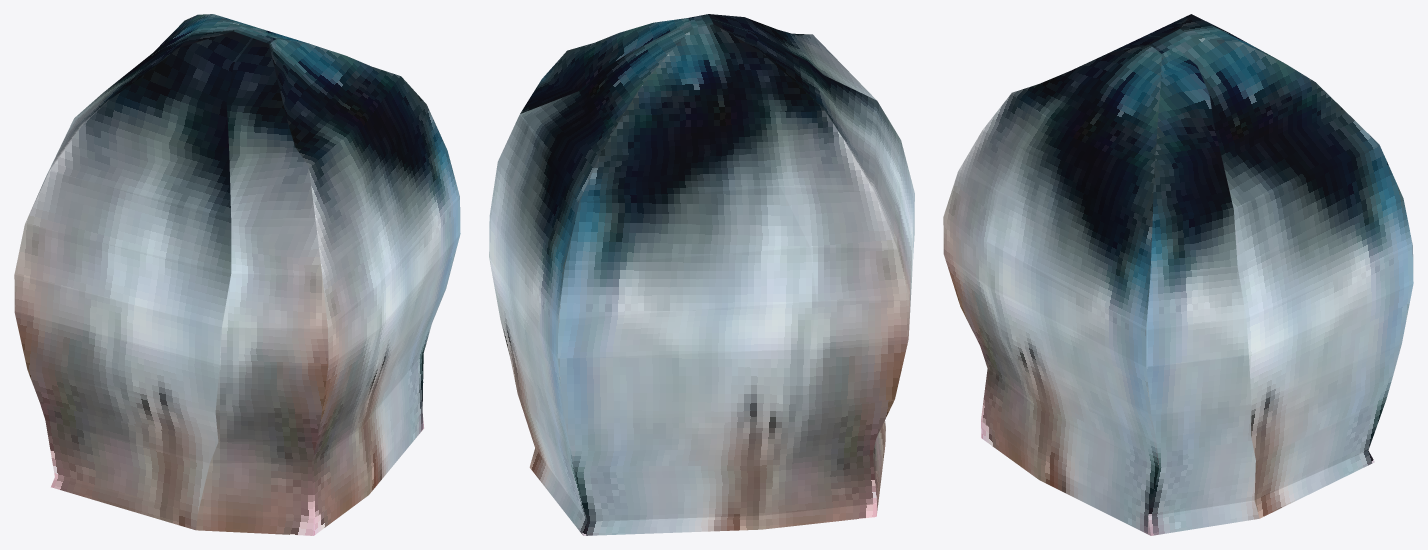
3 views of the same model, side by side, from view 1: azimuth 30°, elevation 25°; view 2: azimuth 150°, elevation 25°; view 3: azimuth 270°, elevation 25° (orthographic). The views are drawn at different scales.
Visible parts, largest first — view 1: SPLICE_2.002; view 2: SPLICE_2.002; view 3: SPLICE_2.002.
Part boxes in pixels (x1,y1,x2,y2): SPLICE_2.002: [14, 14, 460, 535]; SPLICE_2.002: [489, 14, 914, 535]; SPLICE_2.002: [943, 14, 1413, 535].
Bounding box in the file's own units: 1.1 × 1.09 × 1.09.
1 material, 1 textured.
